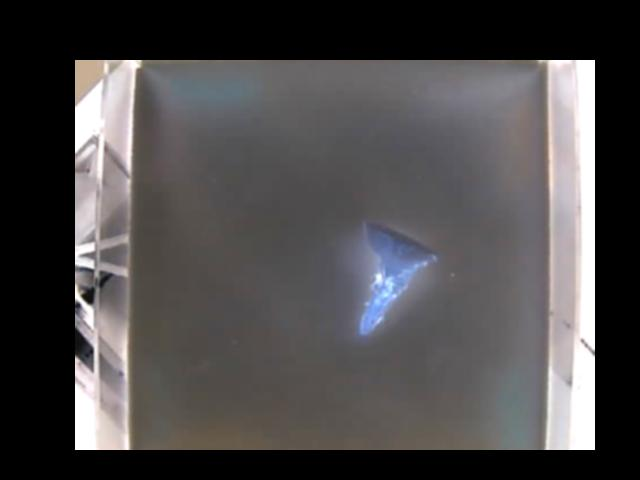Mooli: (359, 218, 437, 335)
